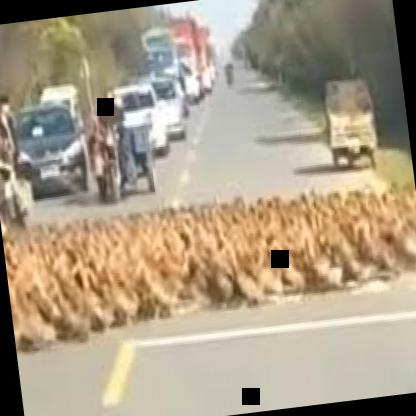car: (6, 87, 93, 210), (98, 63, 172, 178), (141, 13, 214, 103), (148, 61, 190, 142)
